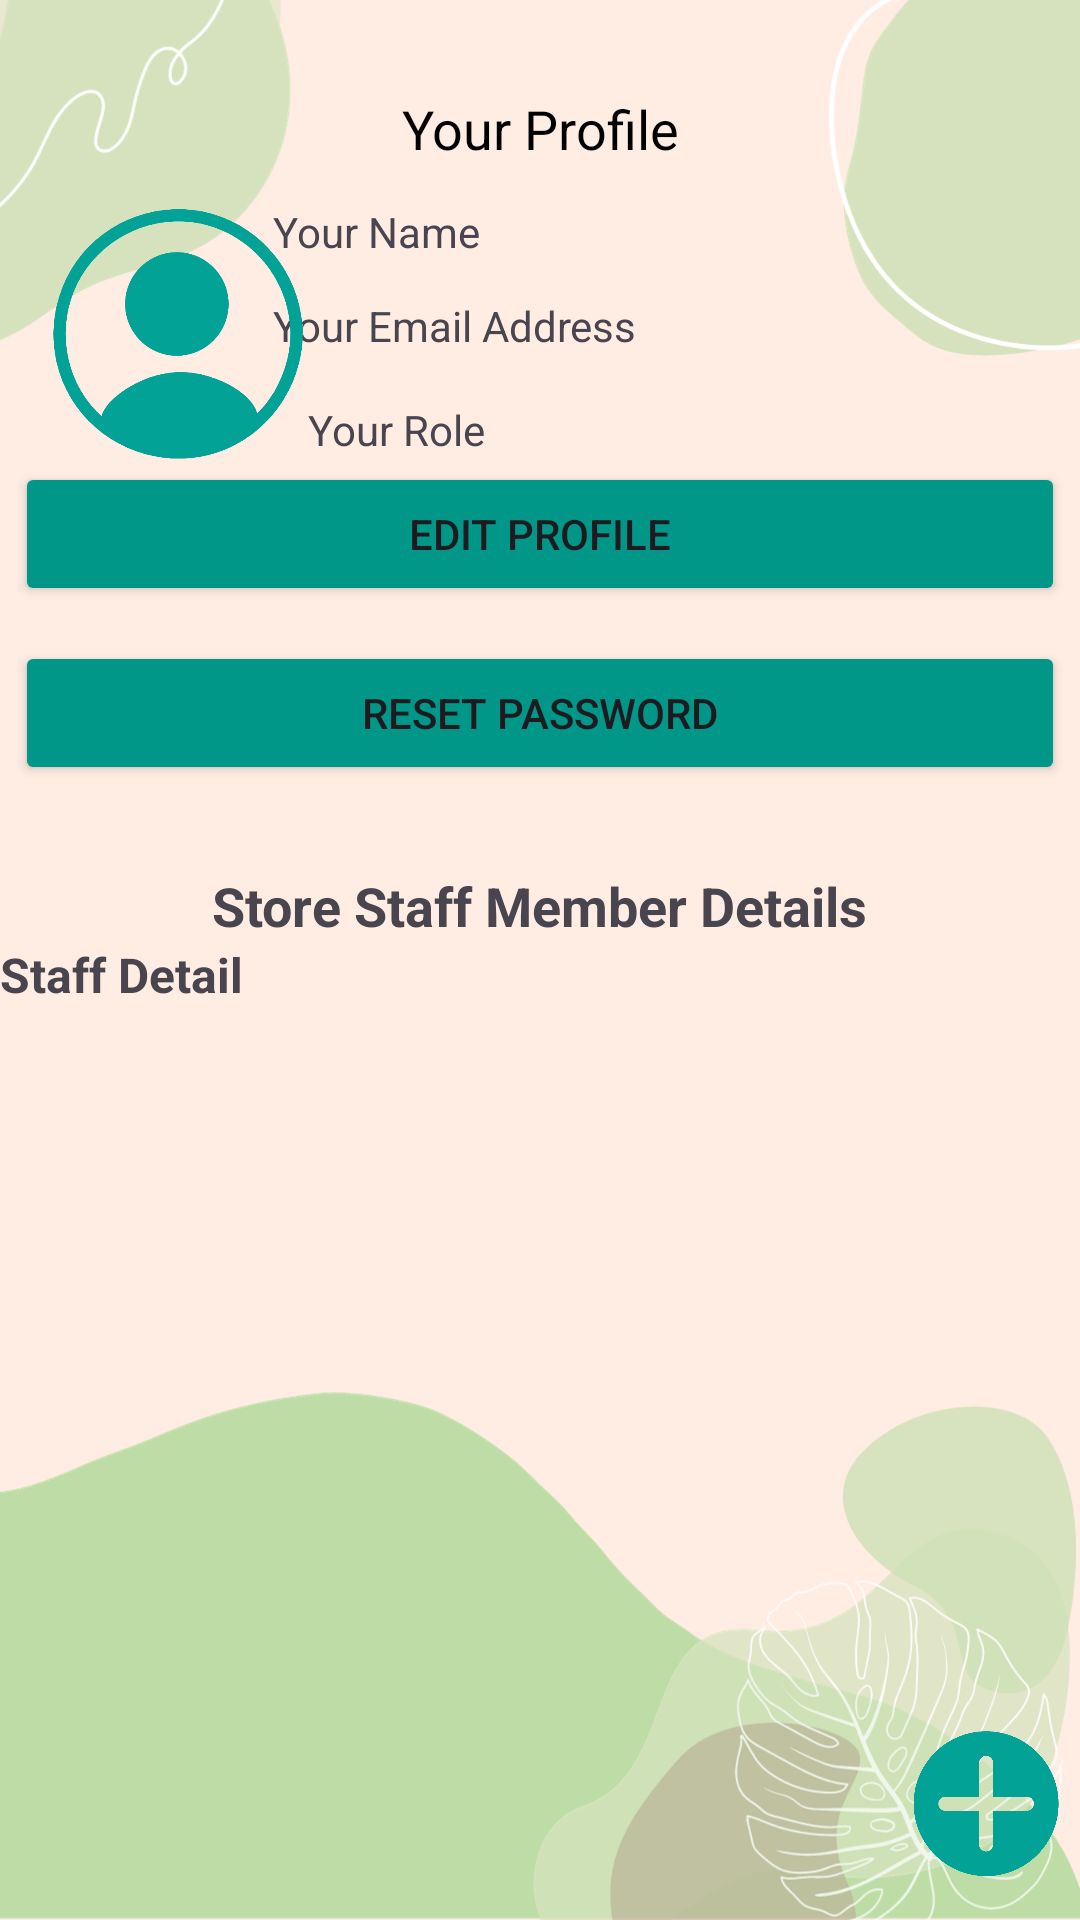

Point at icon controls on the screen. Image size 1080×1920, points as (x=x, y=y).
add: (x=986, y=1803)
